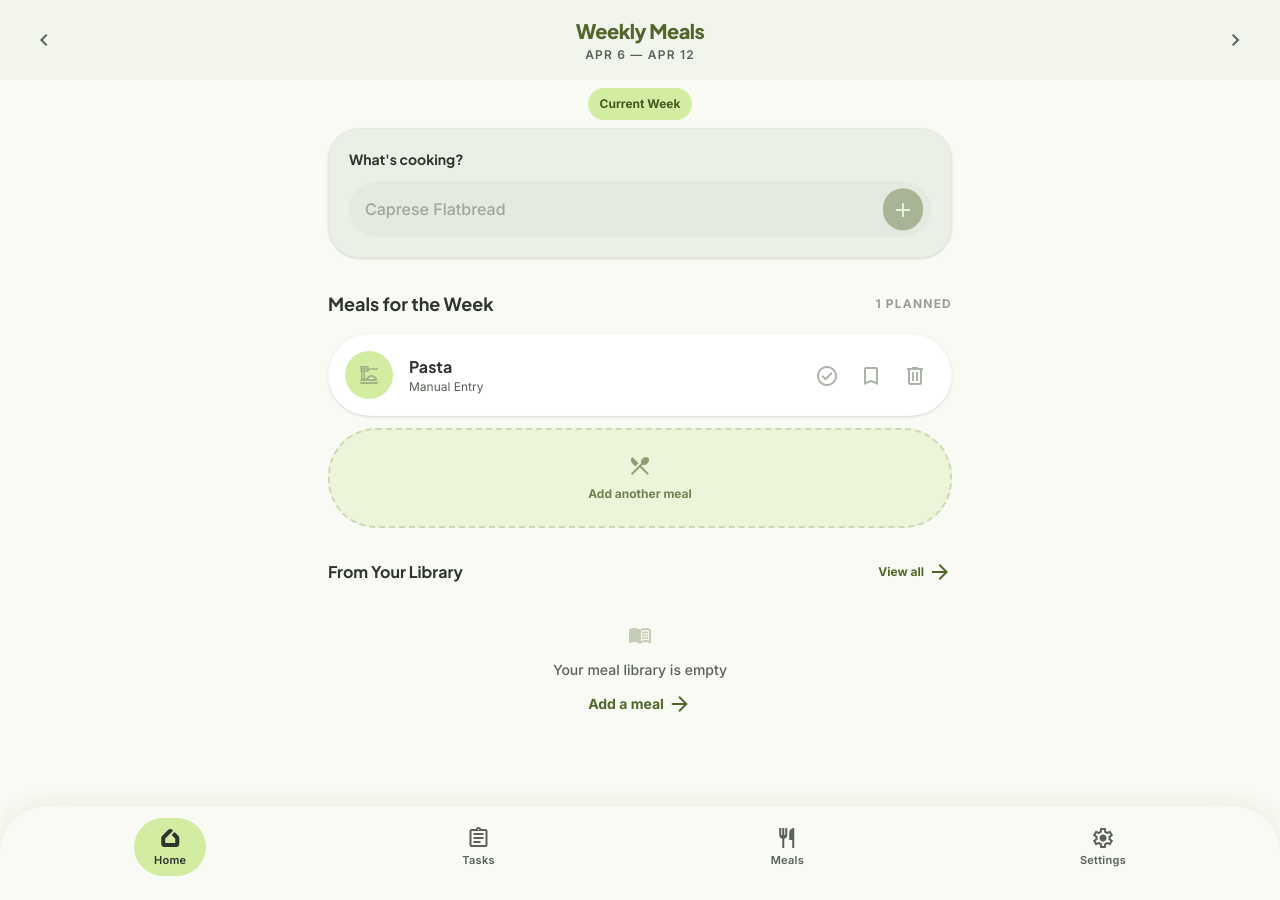
it: MealPlanner › shows a confirmation modal when the delete button is clicked on a manual entry meal
Expected: the text "Pasta" is shown, left=409, top=356, right=452, bottom=377
Step 1. Click the button without text in the row of "Manual entry" → (915,375), box left=895, top=354, right=935, bottom=396
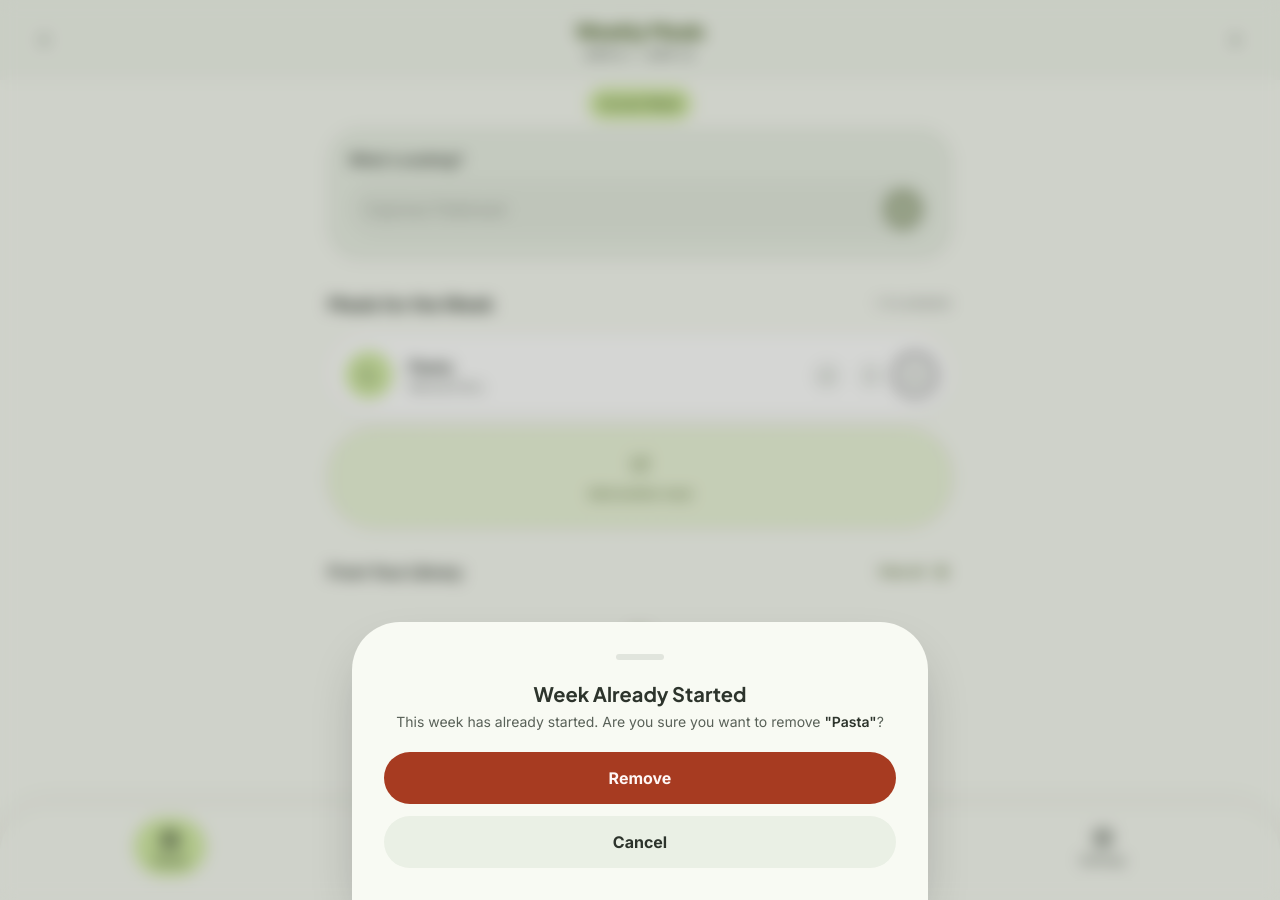
Expected: the heading "Week Already Started" is shown, left=534, top=681, right=746, bottom=706
Expected: the text "\"Pasta\"" is shown, left=824, top=713, right=877, bottom=730
